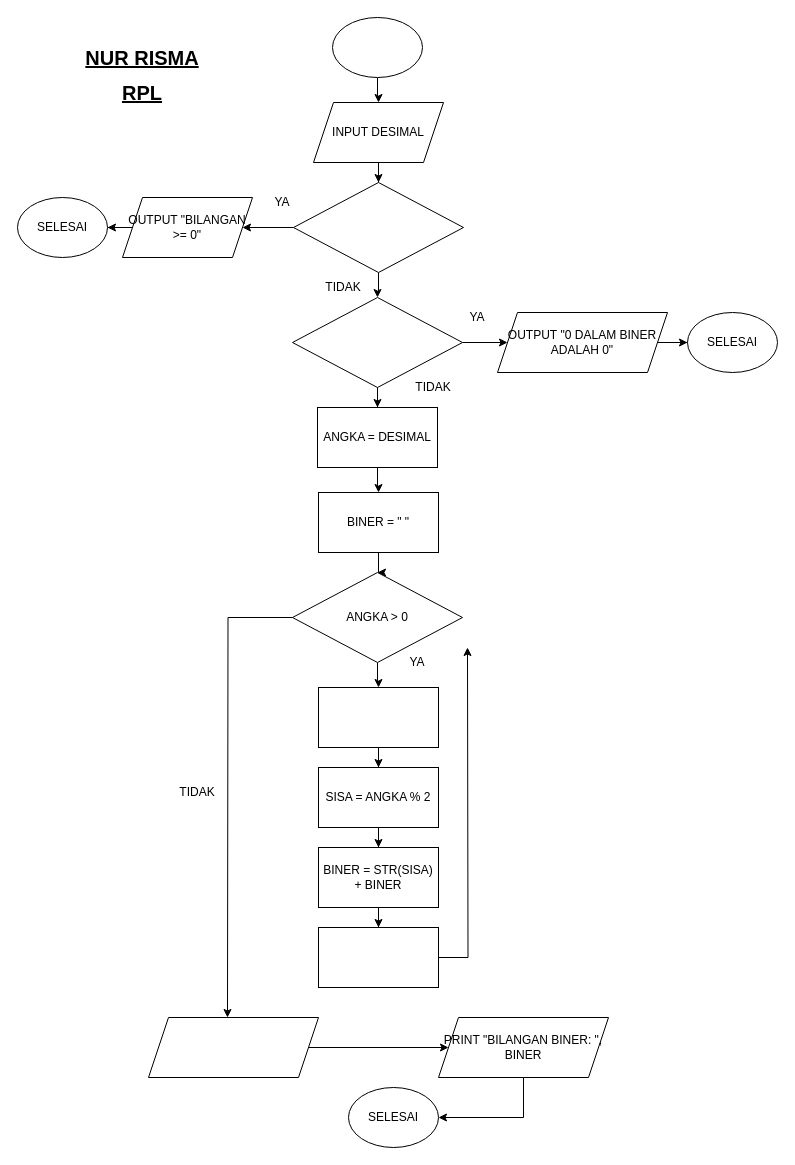
Some shapes in this 795 by 1165 pixel diagram are drawn without their labels. Each missing label, with the box of its shape:
ANGKA = HASILBAGI: (318, 926, 438, 988)
ELIF DESIMAL = 0: (292, 296, 462, 388)
HASILBAGI = ANGKA // 2: (318, 686, 438, 748)
IF DESIMAL < 0: (292, 182, 464, 272)
MULAI: (332, 16, 422, 78)
PRINT "BILANGAN DESIMAL: ", DESIMAL: (148, 1016, 318, 1078)
